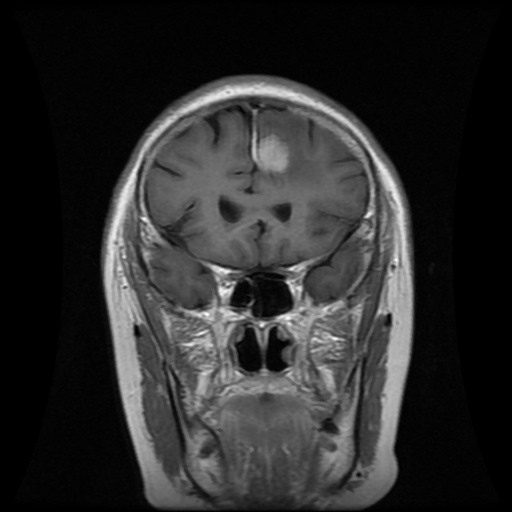meningioma: (248, 112, 318, 185)
